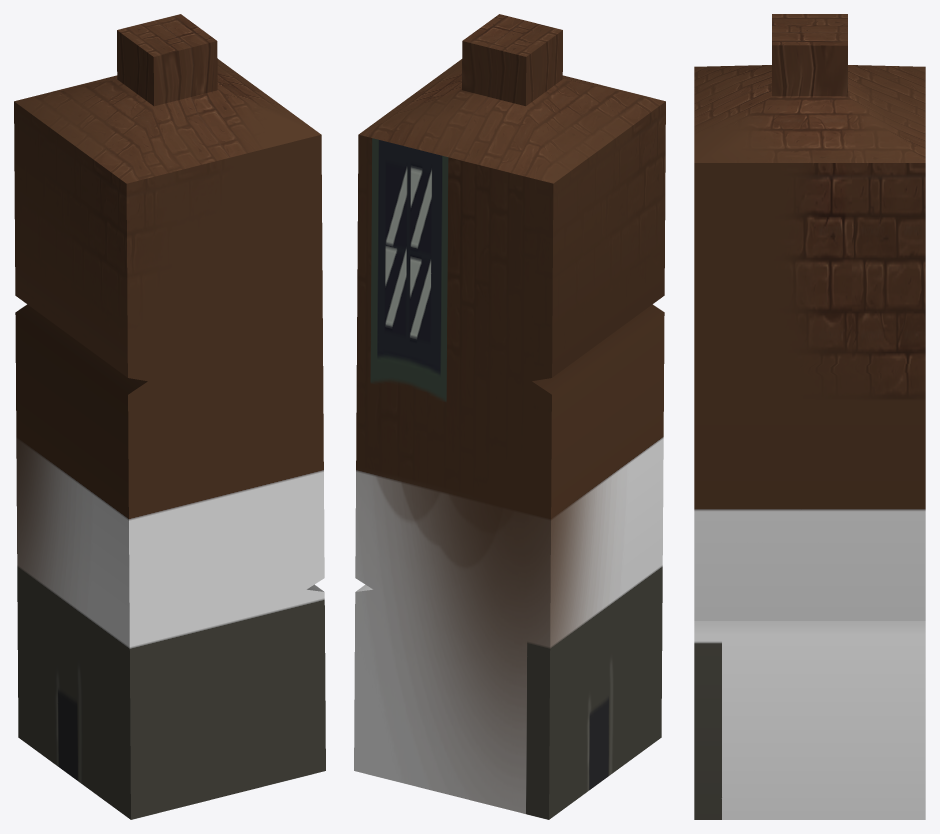
Rendered from Object_Decor4.fbx.
3 views of the same model, side by side, from view 1: azimuth 30°, elevation 25°; view 2: azimuth 150°, elevation 25°; view 3: azimuth 270°, elevation 25° (orthographic). The views are drawn at different scales.
Parts seen in each view (by area): view 1: pCube30; view 2: pCube30; view 3: pCube30.
Part boxes in pixels (x1,y1,x2,y2): pCube30: (14, 14, 325, 819); pCube30: (354, 14, 665, 819); pCube30: (694, 14, 925, 819).
Bounding box in the file's own units: 1.88 × 6.5 × 1.84.
